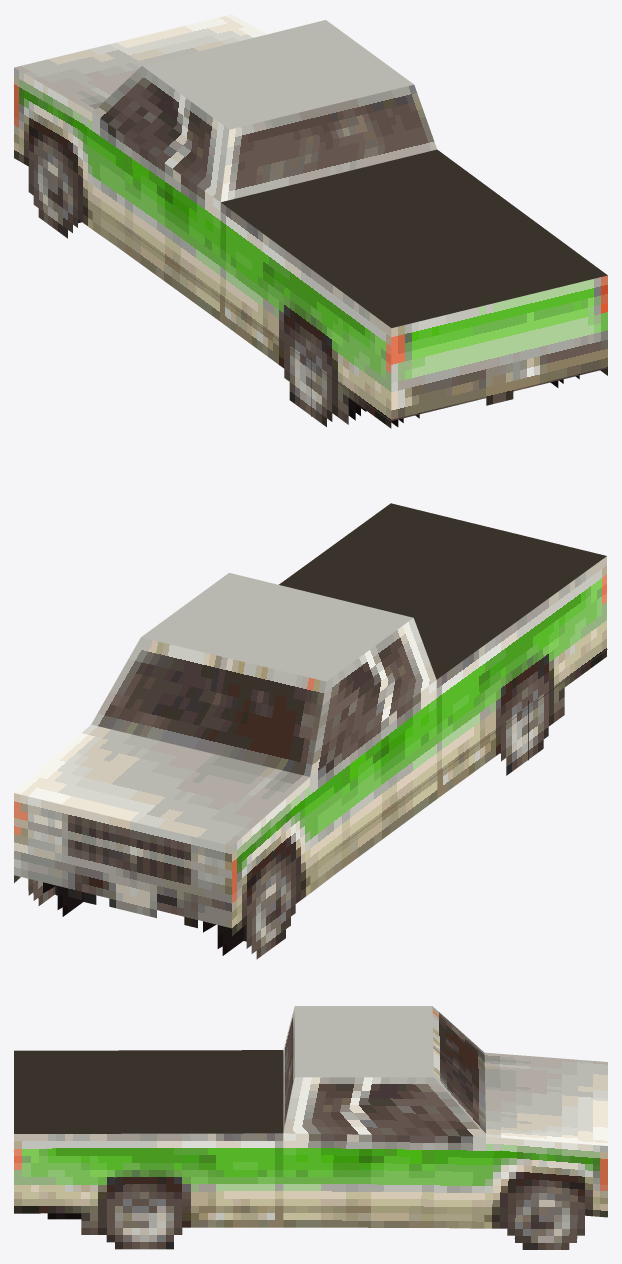
Rendered from car-pickup-plt3.glb.
3 renders of one model, top to bottom at view 1: azimuth 30°, elevation 25°; view 2: azimuth 150°, elevation 25°; view 3: azimuth 270°, elevation 25°, orthographic. The views are drawn at different scales.
Parts seen in each view (by area): view 1: car-pickup-plt3; view 2: car-pickup-plt3; view 3: car-pickup-plt3.
Boxes of the visible parts, left/top/right/bottom form: car-pickup-plt3: left=14, top=14, right=607, bottom=428; car-pickup-plt3: left=14, top=503, right=607, bottom=959; car-pickup-plt3: left=14, top=1006, right=607, bottom=1249.
Bounding box in the file's own units: 1.94 × 1.79 × 5.79.
15 materials, 15 textured.
